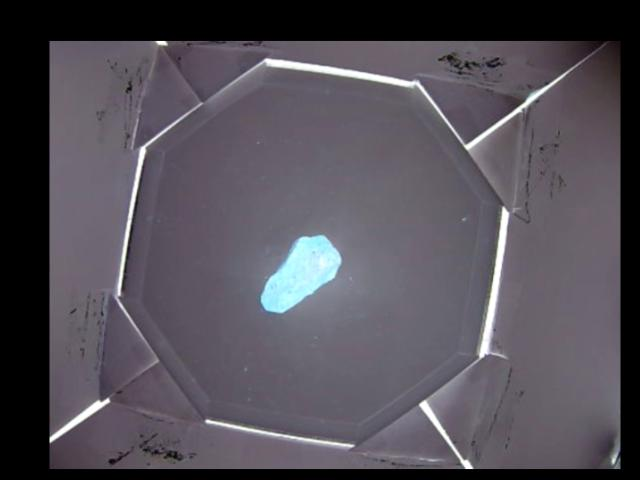Brisk: (264, 237, 337, 313)
